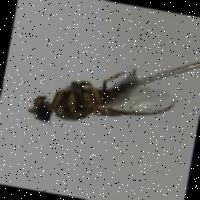Oriental-fruit-fly: (9, 38, 186, 154)
